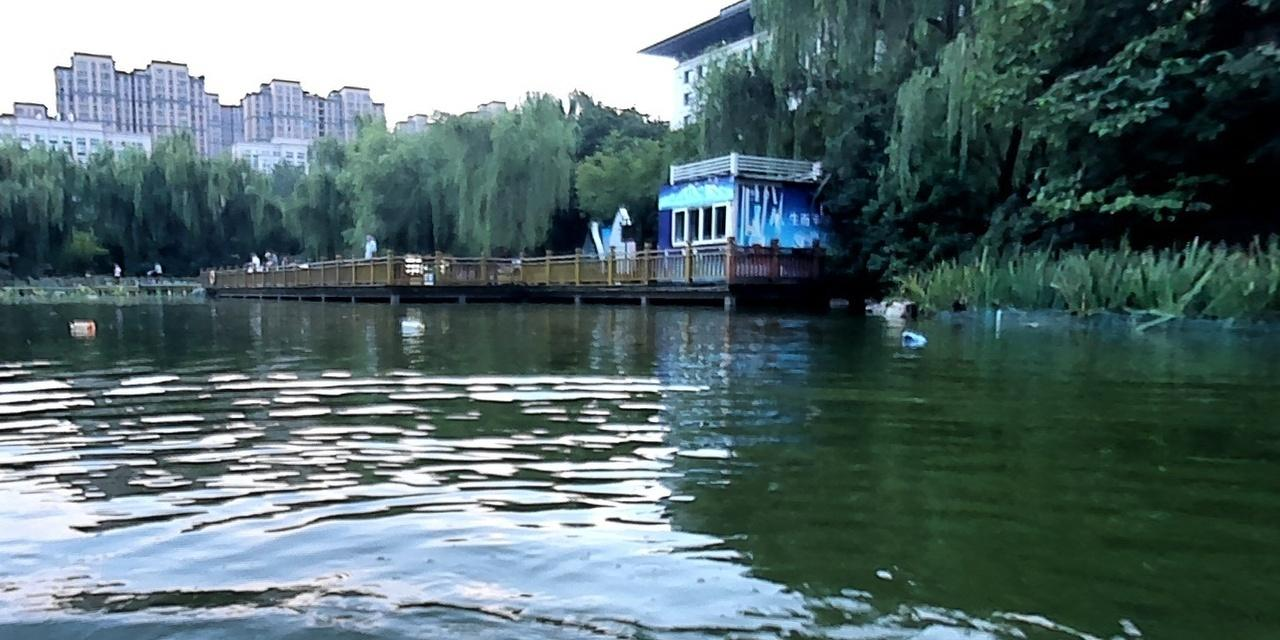bottle: (898, 330, 927, 347), (69, 319, 94, 334), (399, 319, 423, 332)
